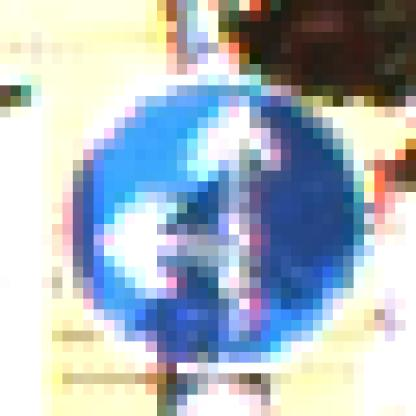Straight or Left: (63, 54, 365, 364)
